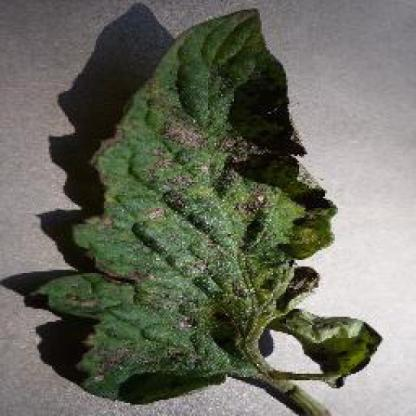Tomato_Blight: (34, 8, 379, 400)
